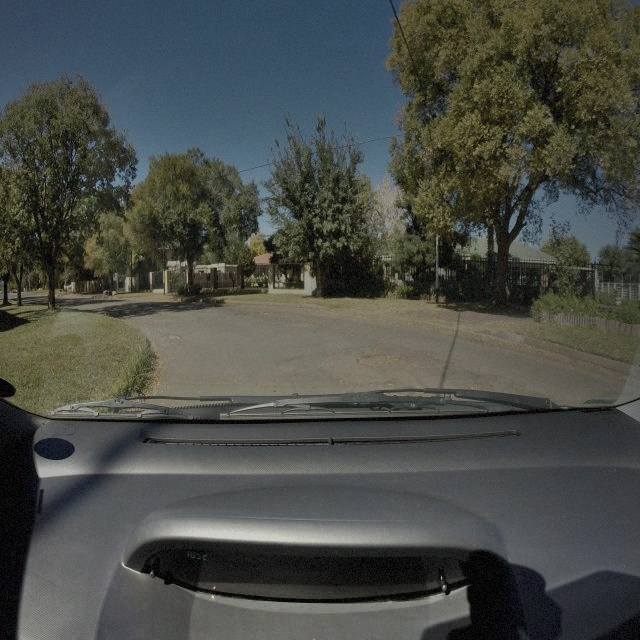pothole: (354, 350, 407, 370), (463, 378, 492, 396), (166, 332, 182, 343), (373, 347, 385, 353)
